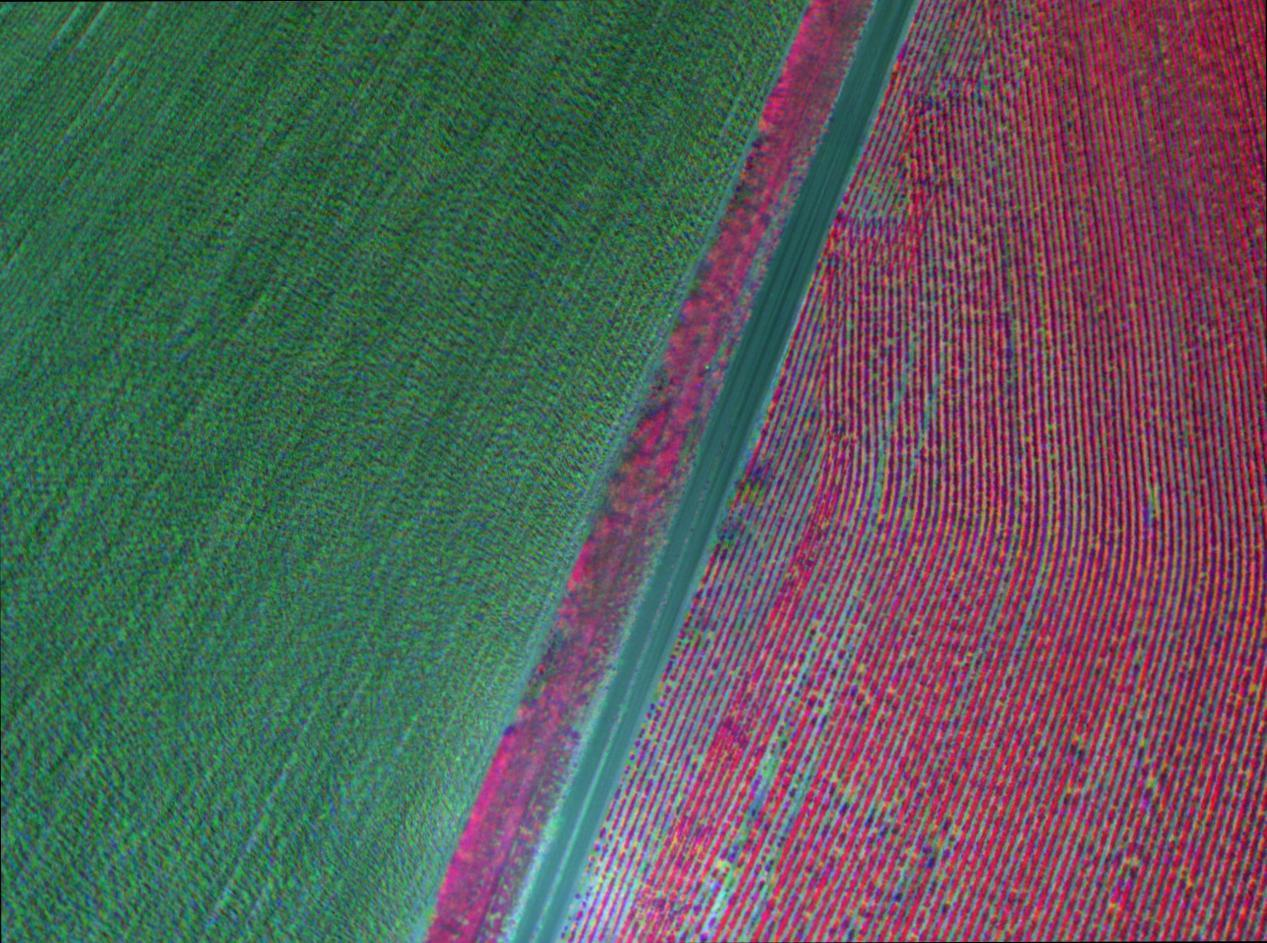dc: (1150, 502, 1154, 507), (769, 762, 774, 766), (821, 595, 825, 599), (791, 807, 794, 812), (848, 322, 851, 326), (877, 489, 880, 493), (822, 710, 825, 714), (902, 378, 905, 381)
